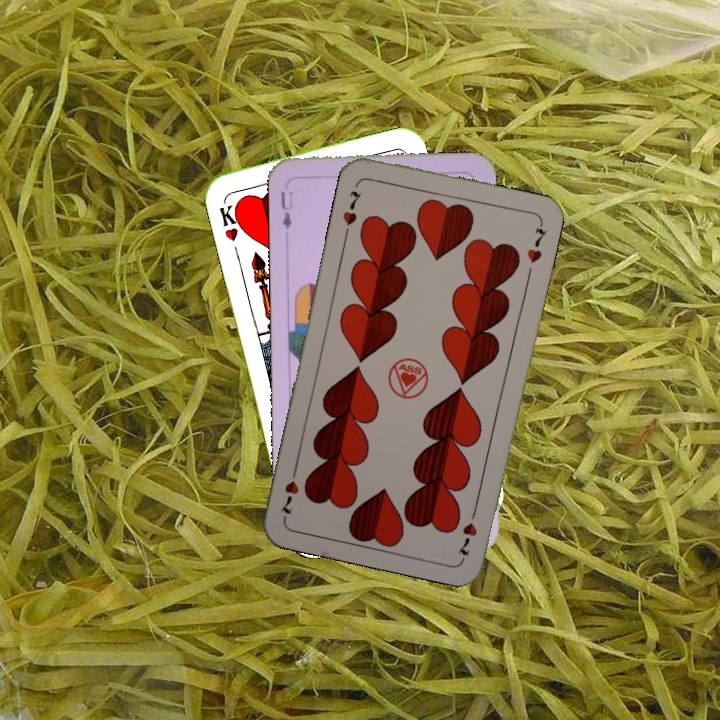EU: (277, 187, 295, 232)
H7: (454, 502, 480, 561), (338, 187, 364, 228)
HK: (215, 198, 247, 244)
